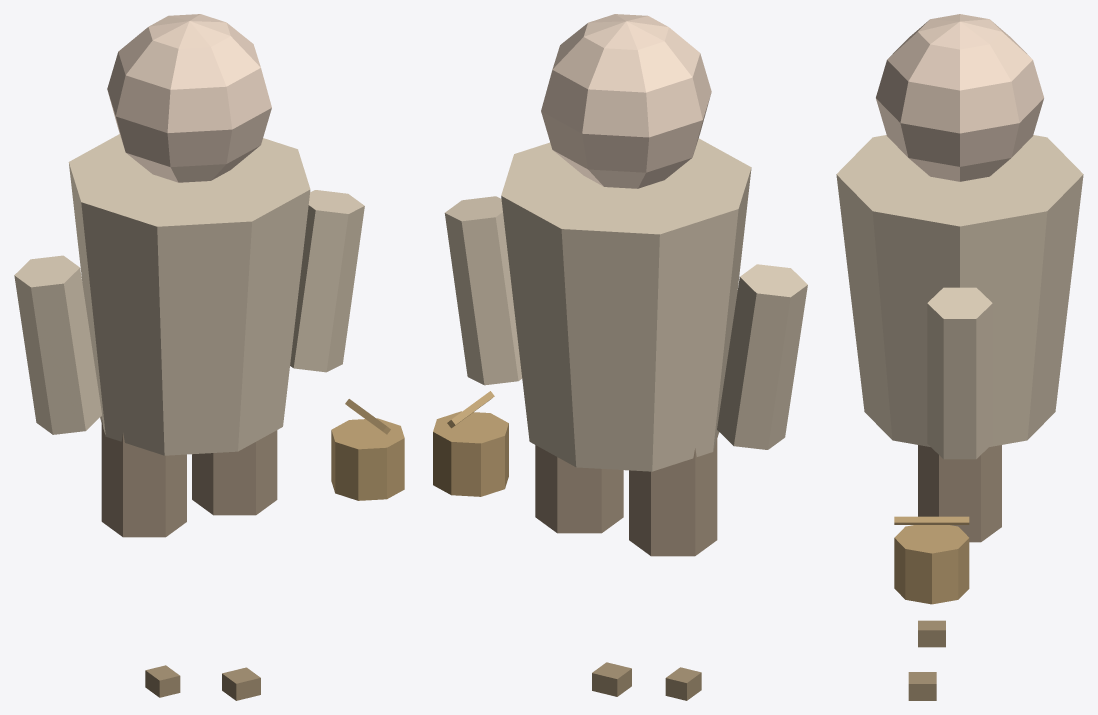
Rendered from pig_farmer.glb.
3 views of the same model, side by side, from view 1: azimuth 30°, elevation 25°; view 2: azimuth 150°, elevation 25°; view 3: azimuth 270°, elevation 25° (orthographic). The views are drawn at different scales.
Parts seen in each view (by area): view 1: pig_farmer; view 2: pig_farmer; view 3: pig_farmer.
Part boxes in pixels (x1,y1,x2,y2): pig_farmer: (14,14,404,700); pig_farmer: (433,14,807,700); pig_farmer: (836,14,1083,700).
Size of the model in its own units: 0.4434 by 0.775 by 0.264.
